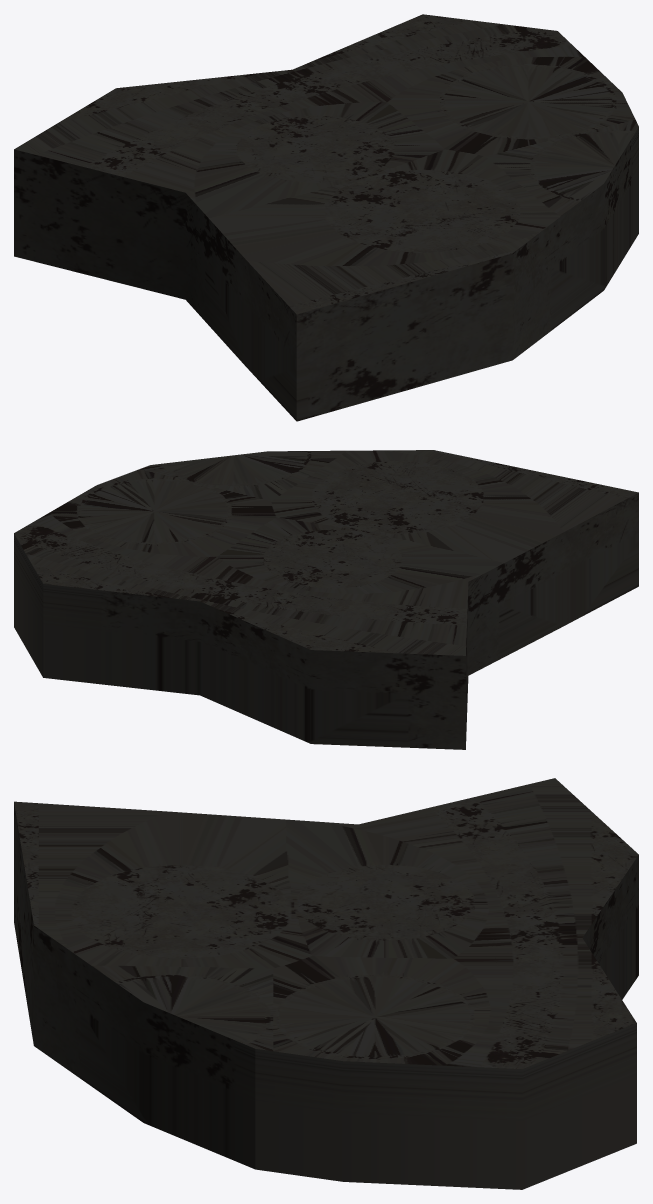
The model's file is Rubble10.FBX.
3 views of the same model, one above another, from view 1: azimuth 30°, elevation 25°; view 2: azimuth 150°, elevation 25°; view 3: azimuth 270°, elevation 25° (orthographic). The views are drawn at different scales.
Visible parts, largest first — view 1: Plane043; view 2: Plane043; view 3: Plane043.
Part boxes in pixels (x1,y1,x2,y2): Plane043: (14, 14, 638, 421); Plane043: (14, 450, 638, 749); Plane043: (14, 778, 638, 1189).
Size of the model in its own units: 5923 by 1145 by 5374.
